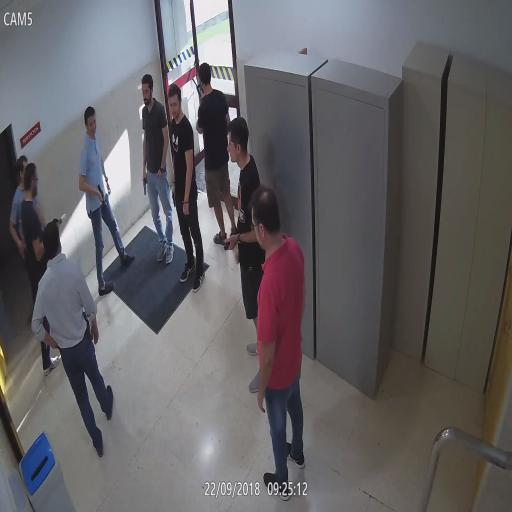Handgun: (222, 228, 240, 253), (82, 309, 92, 342), (141, 172, 148, 196), (170, 182, 176, 209)
